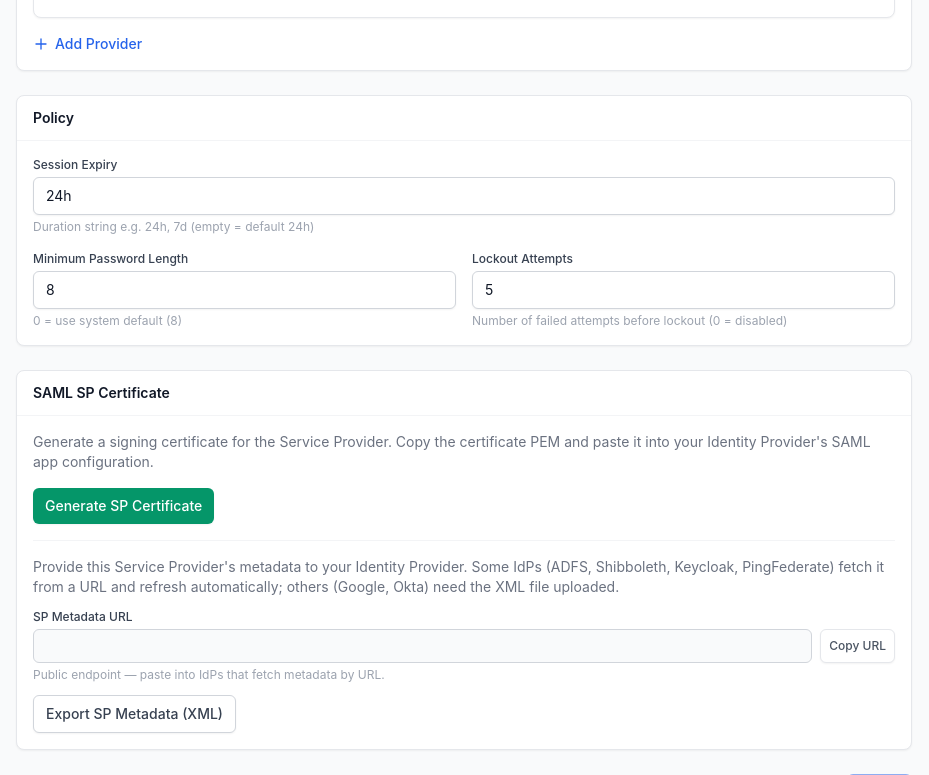
Test: AdminAuthPage › shows an error message when metadata export fails
The width and height of the screenshot is (929, 775).
(page scrolled)
Click the button "Export SP Metadata (XML)": (134, 714) [33,695,236,733]
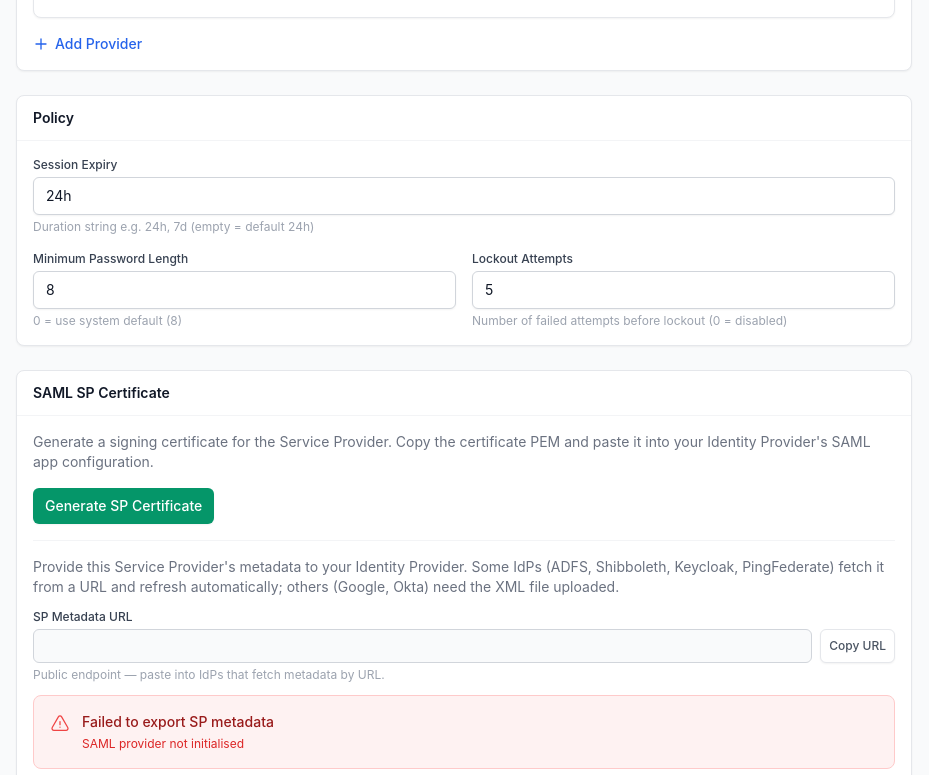
Now the text "SAML provider not initialised" is shown, box [82,736,244,751]
